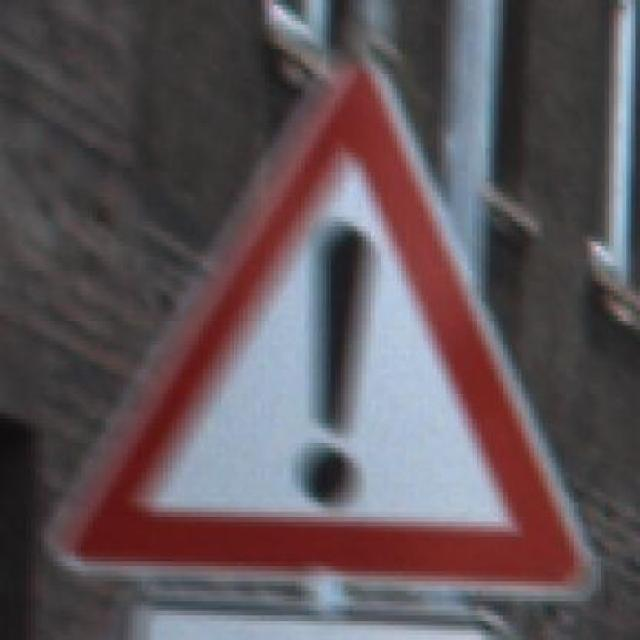Attention Please-: (21, 25, 614, 600)
